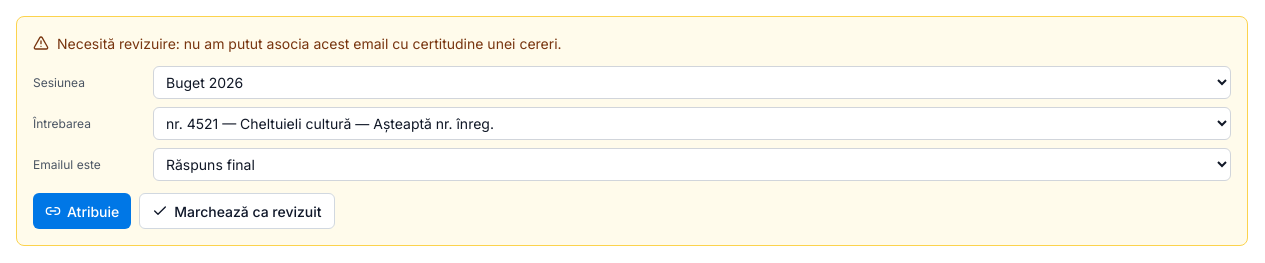
Test: AssignPanel › switching the session switches the questions
Expected: the dropdown labelled "Întrebarea" is shown, [153,107,1231,140]
Select "Achiziții" in the dropdown labelled "Sesiunea" at (692, 82), box [153,66,1231,99]
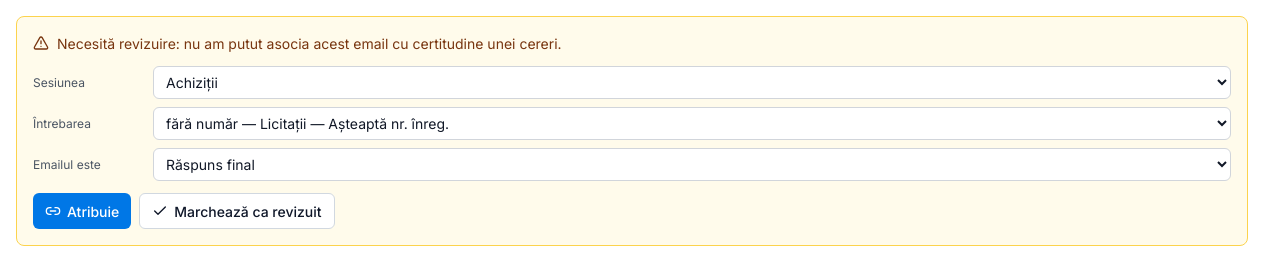
Expected: the dropdown labelled "Întrebarea" shows "fără număr — Licitații — Așteaptă nr. înreg.", [153,107,1231,140]
